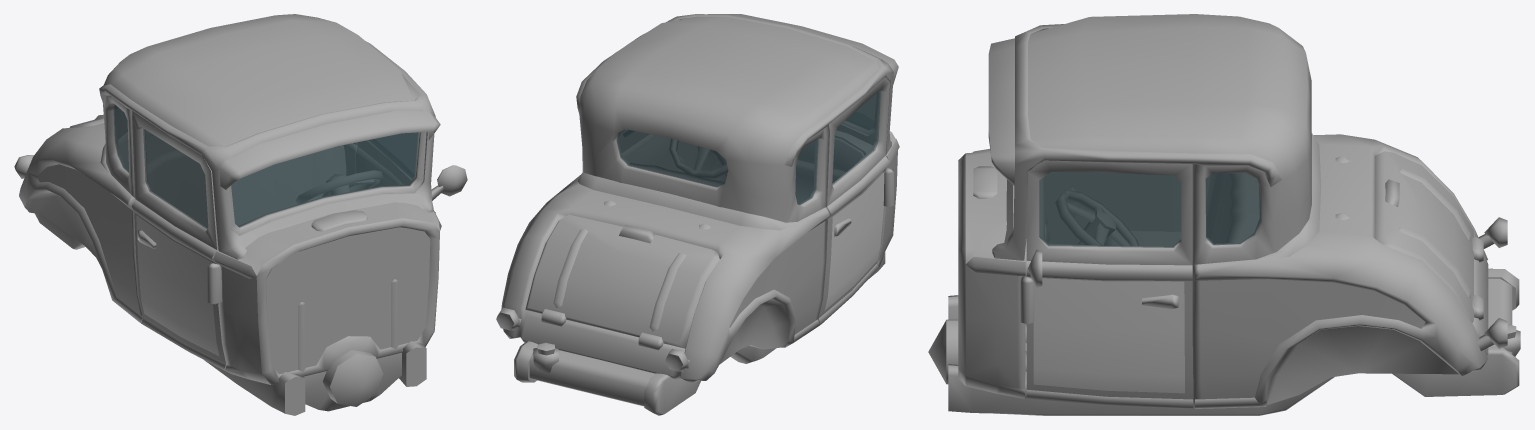
File: Body_Deuce.fbx
3 renders of one model, left to right at view 1: azimuth 30°, elevation 25°; view 2: azimuth 150°, elevation 25°; view 3: azimuth 270°, elevation 25°, orthographic. The views are drawn at different scales.
Visible parts, largest first — view 1: Deuce_Body_Mesh, Deuce_Body_Roof_Mesh, Body_Deuce_Roof_Windows_Mesh, Deuce_Door_Right_Decal_Mesh, Body_Deuce_Roof_Cap_Mesh, Deuce_Door_Right_Window_Mesh, Deuce_Door_Right_Top_Mesh, Deuce_Door_Right_Bottom_Mesh, Deuce_Door_Left_Bottom_Mesh, Deuce_Body_SteerWheel_Geom_Mesh, Deuce_Door_Left_Window_Mesh, Deuce_Door_Left_Top_Mesh; view 2: Deuce_Body_Mesh, Deuce_Body_Roof_Mesh, Body_Deuce_Roof_Windows_Mesh, Deuce_Door_Right_Decal_Mesh, Deuce_Door_Right_Top_Mesh, Deuce_Door_Right_Window_Mesh, Deuce_Door_Right_Bottom_Mesh, Deuce_Door_Left_Bottom_Mesh, Deuce_Body_SteerWheel_Geom_Mesh, Body_Deuce_Roof_Cap_Mesh; view 3: Deuce_Body_Mesh, Deuce_Body_Roof_Mesh, Deuce_Door_Left_Decal_Mesh, Deuce_Door_Left_Window_Mesh, Deuce_Door_Left_Bottom_Mesh, Deuce_Door_Left_Top_Mesh, Deuce_Door_Right_Bottom_Mesh, Body_Deuce_Roof_Windows_Mesh, Body_Deuce_Roof_Cap_Mesh, Deuce_Body_SteerWheel_Geom_Mesh.
Boxes of the visible parts, bbox=[...] form: Deuce_Body_Mesh: bbox=[14, 114, 441, 415]; Deuce_Body_Roof_Mesh: bbox=[99, 14, 435, 259]; Body_Deuce_Roof_Windows_Mesh: bbox=[113, 105, 418, 226]; Deuce_Door_Right_Decal_Mesh: bbox=[136, 215, 219, 355]; Body_Deuce_Roof_Cap_Mesh: bbox=[219, 111, 440, 189]; Deuce_Door_Right_Window_Mesh: bbox=[143, 128, 208, 228]; Deuce_Door_Right_Top_Mesh: bbox=[132, 111, 218, 250]; Deuce_Door_Right_Bottom_Mesh: bbox=[131, 199, 228, 372]; Deuce_Door_Left_Bottom_Mesh: bbox=[356, 147, 467, 200]; Deuce_Body_SteerWheel_Geom_Mesh: bbox=[296, 170, 383, 204]; Deuce_Door_Left_Window_Mesh: bbox=[369, 133, 417, 177]; Deuce_Door_Left_Top_Mesh: bbox=[357, 140, 411, 184]; Deuce_Body_Mesh: bbox=[496, 130, 899, 415]; Deuce_Body_Roof_Mesh: bbox=[576, 14, 893, 222]; Body_Deuce_Roof_Windows_Mesh: bbox=[616, 95, 875, 204]; Deuce_Door_Right_Decal_Mesh: bbox=[824, 171, 884, 310]; Deuce_Door_Right_Top_Mesh: bbox=[826, 77, 889, 206]; Deuce_Door_Right_Window_Mesh: bbox=[832, 90, 880, 185]; Deuce_Door_Right_Bottom_Mesh: bbox=[818, 156, 890, 324]; Deuce_Door_Left_Bottom_Mesh: bbox=[622, 134, 697, 171]; Deuce_Body_SteerWheel_Geom_Mesh: bbox=[669, 139, 727, 178]; Body_Deuce_Roof_Cap_Mesh: bbox=[708, 14, 898, 84]; Deuce_Body_Mesh: bbox=[928, 133, 1520, 415]; Deuce_Body_Roof_Mesh: bbox=[992, 14, 1311, 264]; Deuce_Door_Left_Decal_Mesh: bbox=[1033, 278, 1184, 393]; Deuce_Door_Left_Window_Mesh: bbox=[1039, 172, 1181, 247]; Deuce_Door_Left_Bottom_Mesh: bbox=[1026, 249, 1193, 408]; Deuce_Door_Left_Top_Mesh: bbox=[1026, 160, 1192, 265]; Deuce_Door_Right_Bottom_Mesh: bbox=[1045, 172, 1180, 244]; Body_Deuce_Roof_Windows_Mesh: bbox=[1205, 173, 1260, 245]; Body_Deuce_Roof_Cap_Mesh: bbox=[988, 38, 1014, 185]; Deuce_Body_SteerWheel_Geom_Mesh: bbox=[1055, 189, 1138, 245].
Bounding box in the file's own units: 172 × 171 × 282.
